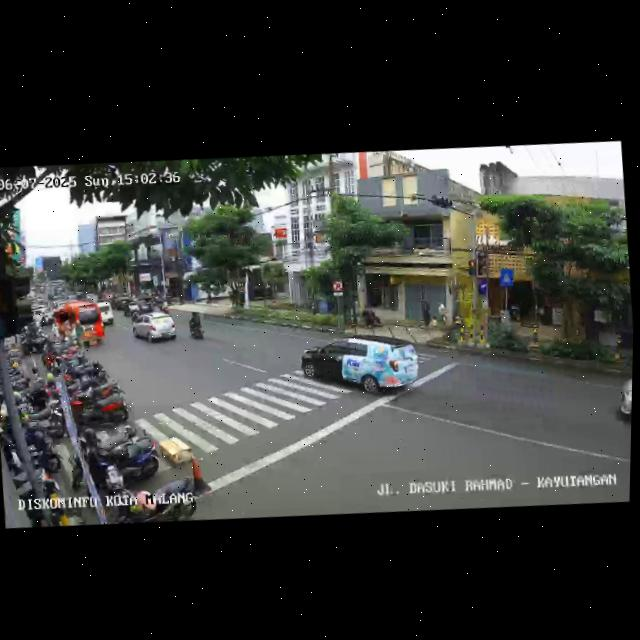car: (296, 326, 423, 407), (50, 298, 106, 351), (129, 309, 178, 347), (610, 371, 632, 435)
motorcycle: (186, 309, 208, 342)
